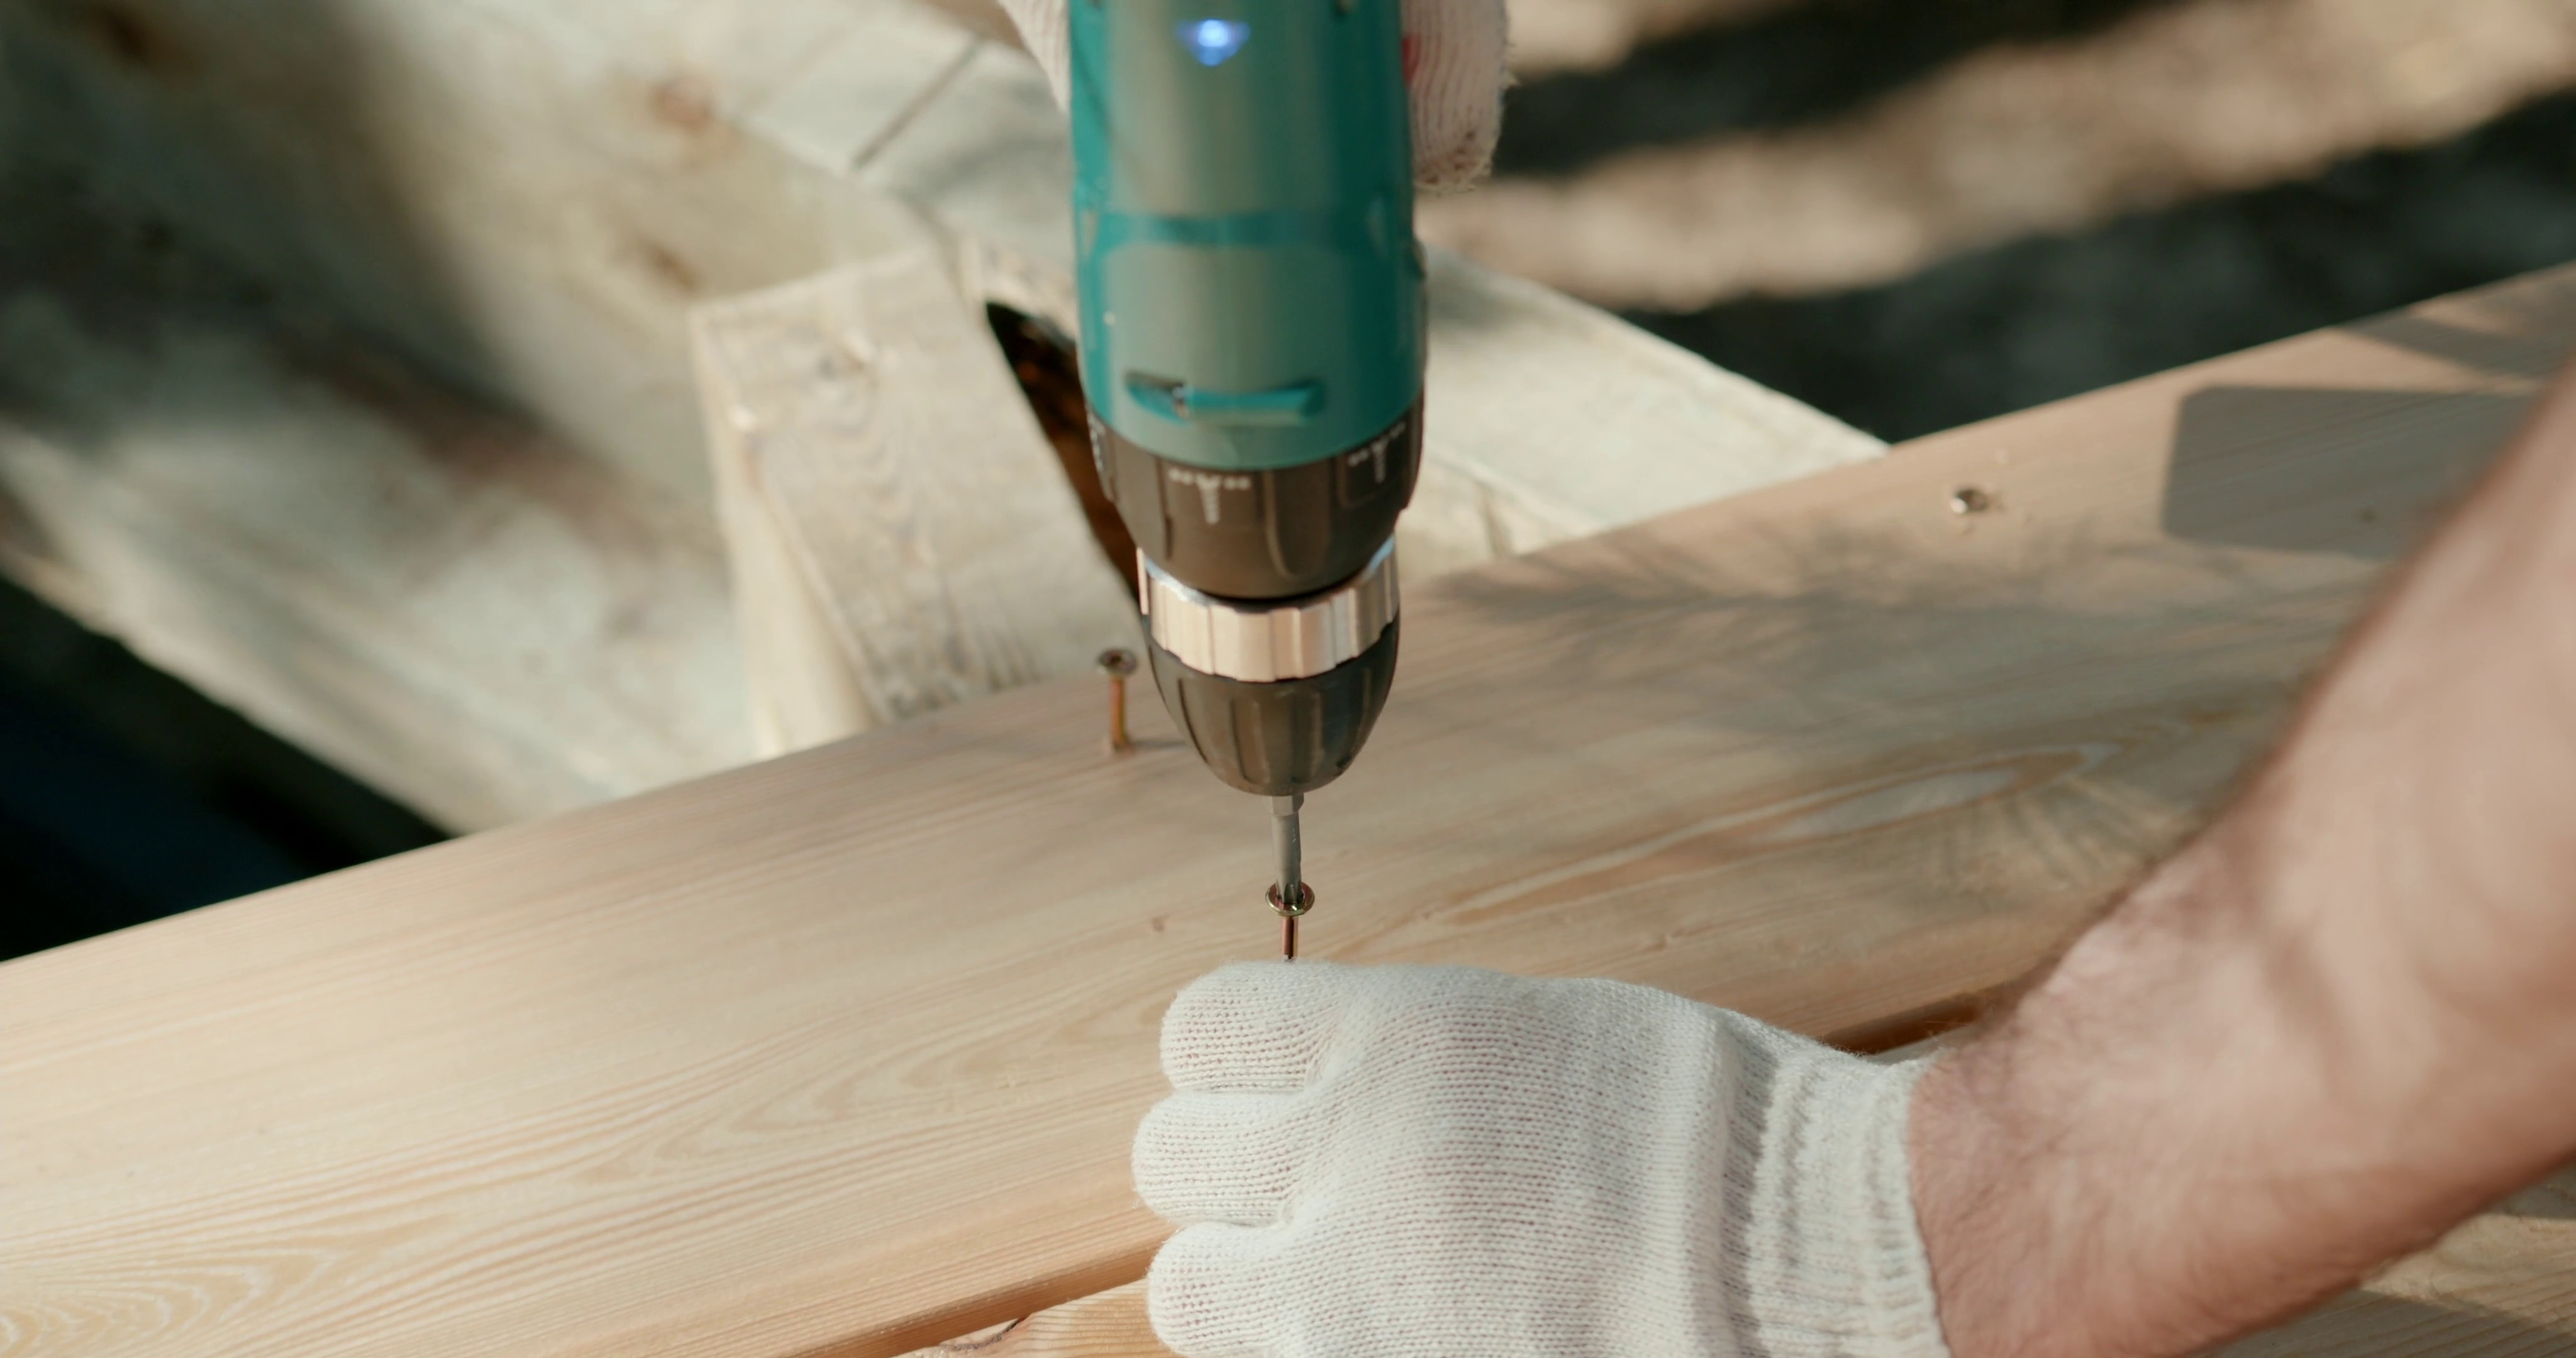driller: (1046, 0, 1465, 905)
